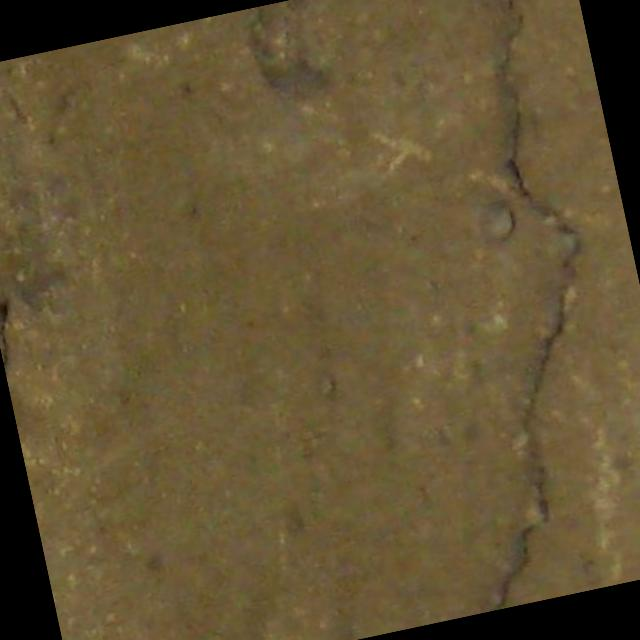crack: (352, 0, 640, 611)
